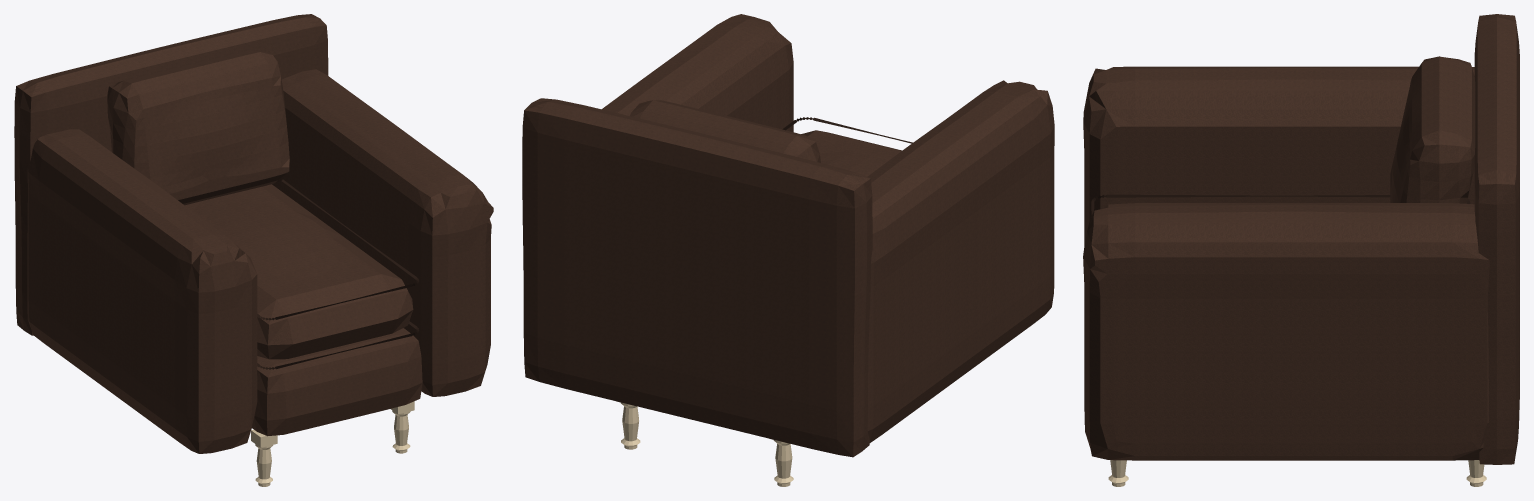
Rendered from BIB-CLB-std.glb.
3 renders of one model, left to right at view 1: azimuth 30°, elevation 25°; view 2: azimuth 150°, elevation 25°; view 3: azimuth 270°, elevation 25°, orthographic. The views are drawn at different scales.
Parts seen in each view (by area): view 1: arm-pad-l:fabric:eyJwcmVzZXQiOiJ2ZWx2ZXQiLCJ3YXJwIjoiY2hvY29, arm-pad-r:fabric:eyJwcmVzZXQiOiJ2ZWx2ZXQiLCJ3YXJwIjoiY2hvY29, inside-back:fabric:eyJwcmVzZXQiOiJ2ZWx2ZXQiLCJ3YXJwIjoiY2hvY, seat:fabric:eyJwcmVzZXQiOiJ2ZWx2ZXQiLCJ3YXJwIjoiY2hvY29sYXRl, back-pad:fabric:eyJwcmVzZXQiOiJ2ZWx2ZXQiLCJ3YXJwIjoiY2hvY29s, deck:fabric:eyJwcmVzZXQiOiJ2ZWx2ZXQiLCJ3YXJwIjoiY2hvY29sYXRl, seat:piping:pbr, leg-fl:pbr, leg-fr:pbr; view 2: back-pad:fabric:eyJwcmVzZXQiOiJ2ZWx2ZXQiLCJ3YXJwIjoiY2hvY29s, arm-pad-l:fabric:eyJwcmVzZXQiOiJ2ZWx2ZXQiLCJ3YXJwIjoiY2hvY29, arm-pad-r:fabric:eyJwcmVzZXQiOiJ2ZWx2ZXQiLCJ3YXJwIjoiY2hvY29, inside-back:fabric:eyJwcmVzZXQiOiJ2ZWx2ZXQiLCJ3YXJwIjoiY2hvY, seat:fabric:eyJwcmVzZXQiOiJ2ZWx2ZXQiLCJ3YXJwIjoiY2hvY29sYXRl, leg-bl:pbr, leg-br:pbr; view 3: arm-pad-r:fabric:eyJwcmVzZXQiOiJ2ZWx2ZXQiLCJ3YXJwIjoiY2hvY29, arm-pad-l:fabric:eyJwcmVzZXQiOiJ2ZWx2ZXQiLCJ3YXJwIjoiY2hvY29, back-pad:fabric:eyJwcmVzZXQiOiJ2ZWx2ZXQiLCJ3YXJwIjoiY2hvY29s, inside-back:fabric:eyJwcmVzZXQiOiJ2ZWx2ZXQiLCJ3YXJwIjoiY2hvY, seat:piping:pbr.
Boxes of the visible parts, bbox=[...] form: arm-pad-l:fabric:eyJwcmVzZXQiOiJ2ZWx2ZXQiLCJ3YXJwIjoiY2hvY29: bbox=[27, 129, 257, 453]; arm-pad-r:fabric:eyJwcmVzZXQiOiJ2ZWx2ZXQiLCJ3YXJwIjoiY2hvY29: bbox=[272, 69, 493, 396]; inside-back:fabric:eyJwcmVzZXQiOiJ2ZWx2ZXQiLCJ3YXJwIjoiY2hvY: bbox=[107, 49, 289, 205]; seat:fabric:eyJwcmVzZXQiOiJ2ZWx2ZXQiLCJ3YXJwIjoiY2hvY29sYXRl: bbox=[185, 184, 413, 359]; back-pad:fabric:eyJwcmVzZXQiOiJ2ZWx2ZXQiLCJ3YXJwIjoiY2hvY29s: bbox=[14, 14, 328, 335]; deck:fabric:eyJwcmVzZXQiOiJ2ZWx2ZXQiLCJ3YXJwIjoiY2hvY29sYXRl: bbox=[252, 328, 422, 436]; seat:piping:pbr: bbox=[257, 179, 419, 369]; leg-fl:pbr: bbox=[251, 429, 277, 486]; leg-fr:pbr: bbox=[391, 401, 414, 453]; back-pad:fabric:eyJwcmVzZXQiOiJ2ZWx2ZXQiLCJ3YXJwIjoiY2hvY29s: bbox=[522, 98, 872, 457]; arm-pad-l:fabric:eyJwcmVzZXQiOiJ2ZWx2ZXQiLCJ3YXJwIjoiY2hvY29: bbox=[867, 80, 1054, 442]; arm-pad-r:fabric:eyJwcmVzZXQiOiJ2ZWx2ZXQiLCJ3YXJwIjoiY2hvY29: bbox=[602, 14, 793, 132]; inside-back:fabric:eyJwcmVzZXQiOiJ2ZWx2ZXQiLCJ3YXJwIjoiY2hvY: bbox=[630, 100, 820, 162]; seat:fabric:eyJwcmVzZXQiOiJ2ZWx2ZXQiLCJ3YXJwIjoiY2hvY29sYXRl: bbox=[801, 130, 901, 176]; leg-bl:pbr: bbox=[769, 438, 793, 486]; leg-br:pbr: bbox=[616, 401, 640, 449]; arm-pad-r:fabric:eyJwcmVzZXQiOiJ2ZWx2ZXQiLCJ3YXJwIjoiY2hvY29: bbox=[1083, 203, 1489, 460]; arm-pad-l:fabric:eyJwcmVzZXQiOiJ2ZWx2ZXQiLCJ3YXJwIjoiY2hvY29: bbox=[1083, 66, 1474, 245]; back-pad:fabric:eyJwcmVzZXQiOiJ2ZWx2ZXQiLCJ3YXJwIjoiY2hvY29s: bbox=[1474, 14, 1519, 464]; inside-back:fabric:eyJwcmVzZXQiOiJ2ZWx2ZXQiLCJ3YXJwIjoiY2hvY: bbox=[1390, 56, 1475, 203]; seat:piping:pbr: bbox=[1091, 194, 1470, 214].
Bounding box in the file's own units: 0.8 × 0.76 × 0.85.
11 materials, 6 textured.
